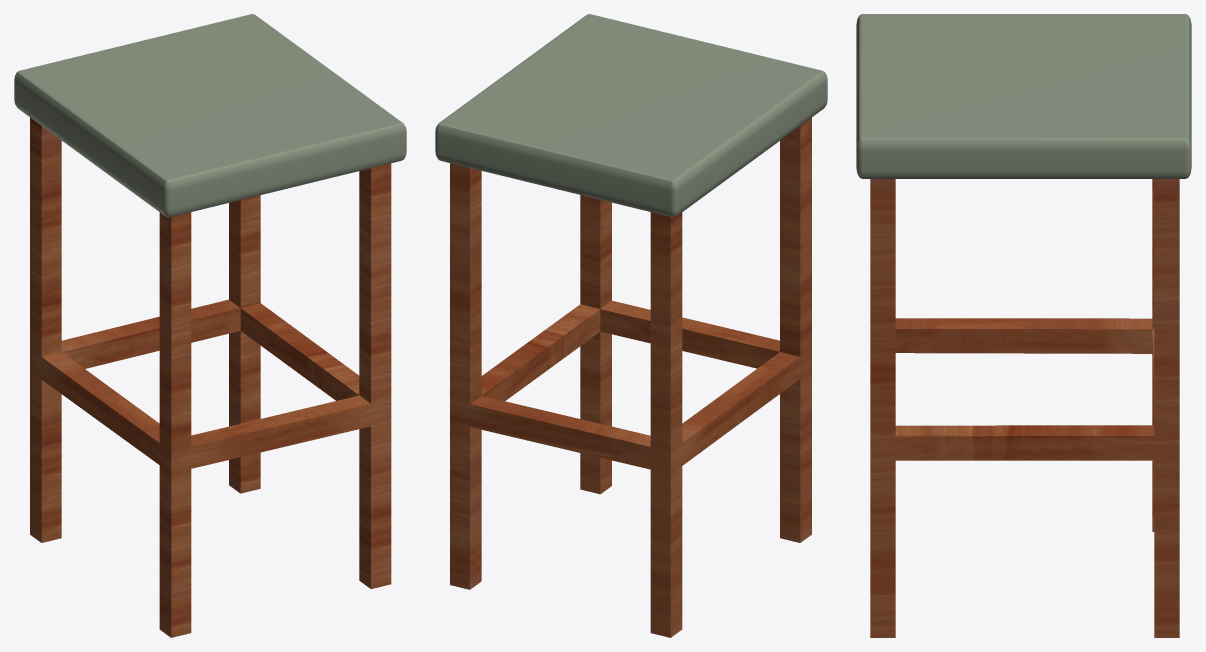
File: barstool.fbx
3 renders of one model, left to right at view 1: azimuth 30°, elevation 25°; view 2: azimuth 150°, elevation 25°; view 3: azimuth 270°, elevation 25°, orthographic. The views are drawn at different scales.
Visible parts, largest first — view 1: pCube8; view 2: pCube8; view 3: pCube8.
Boxes of the visible parts, bbox=[...] form: pCube8: bbox=[14, 14, 406, 637]; pCube8: bbox=[435, 14, 827, 637]; pCube8: bbox=[856, 14, 1191, 637].
Size of the model in its own units: 35.77 by 65.2 by 39.29.
